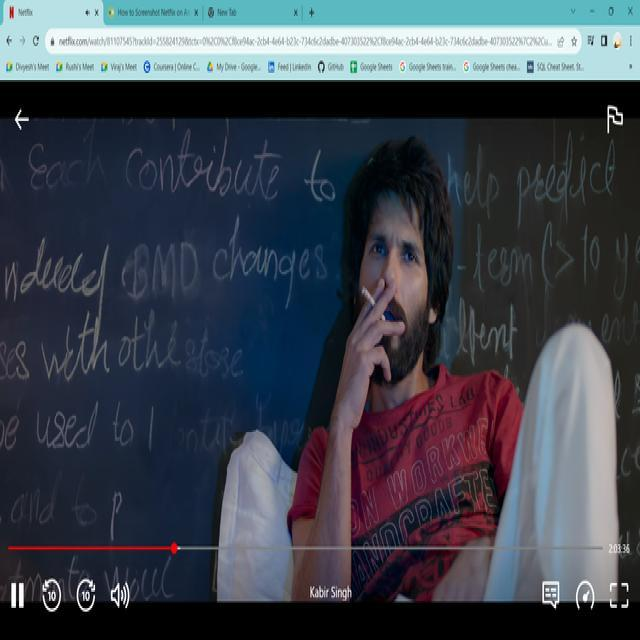smoking: (350, 280, 404, 342)
